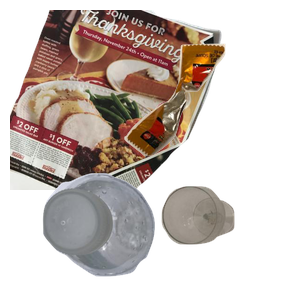glass: (159, 184, 300, 300)
paper: (10, 10, 224, 190)
plastic: (40, 170, 187, 300)
trash: (122, 41, 300, 190)
